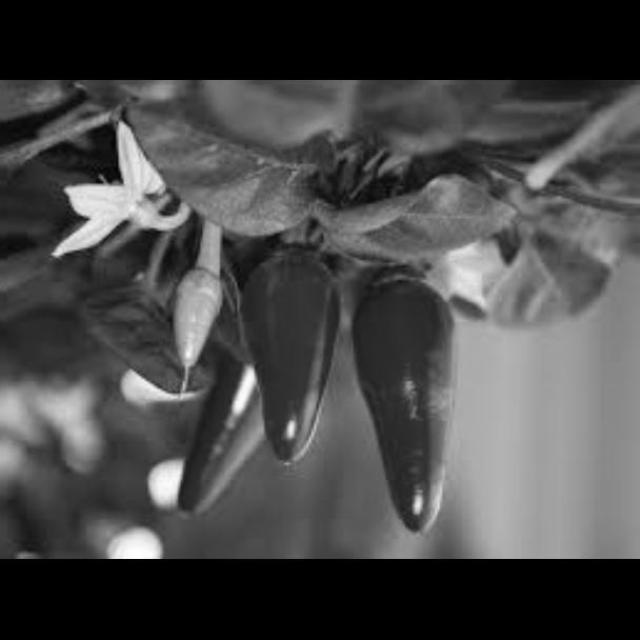ot cay: (349, 264, 459, 549), (238, 241, 340, 477), (172, 347, 268, 522), (151, 264, 238, 372)
